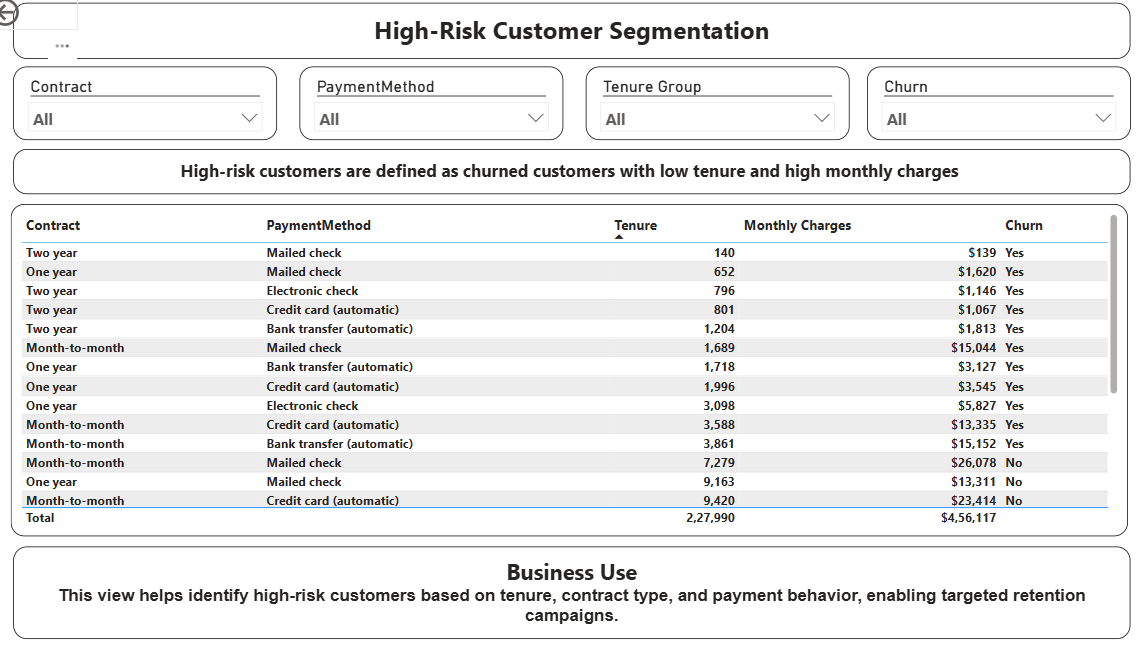

The dashboard page shown, as its layout file describes it:
{"tool":"powerbi","page":{"name":"High Risk Customer Table","canvas":[1280,720],"ordinal":3},"visuals":[{"type":"textbox","box":[28.8,9.6,1226.8,61.7],"z":0},{"type":"slicer","fields":{"Values":["cleaned_churn.Tenure Group"]},"box":[657.3,79.6,289.5,81],"z":1000},{"type":"slicer","fields":{"Values":["cleaned_churn.PaymentMethod"]},"box":[343.1,79.6,289.5,81],"z":2000},{"type":"slicer","fields":{"Values":["cleaned_churn.Contract"]},"box":[28.8,79.6,289.5,81],"z":3000},{"type":"actionButton","box":[0,0,100,40],"z":4000},{"type":"slicer","fields":{"Values":["cleaned_churn.Churn"]},"box":[966,79.6,289.5,81],"z":5000},{"type":"textbox","box":[28.8,606.5,1226.8,101.5],"z":6000},{"type":"tableEx","fields":{"Values":["cleaned_churn.Contract","cleaned_churn.PaymentMethod","Sum(cleaned_churn.tenure)","Sum(cleaned_churn.MonthlyCharges)","cleaned_churn.Churn"]},"box":[26.1,230.5,1226.8,365],"z":7000},{"type":"textbox","box":[28.8,170.2,1226.8,49.4],"z":8000}]}

Visuals, with their boxes in screenshot pixels (x1, y1, x2, y2), scaled from the page's 1280x720 canvas onto the 1140x645 screenshot:
textbox: crop(26, 9, 1118, 64)
slicer - cleaned_churn.Tenure Group: crop(585, 71, 843, 144)
slicer - cleaned_churn.PaymentMethod: crop(306, 71, 563, 144)
slicer - cleaned_churn.Contract: crop(26, 71, 283, 144)
actionButton: crop(0, 0, 89, 36)
slicer - cleaned_churn.Churn: crop(860, 71, 1118, 144)
textbox: crop(26, 543, 1118, 634)
tableEx - cleaned_churn.Contract x cleaned_churn.PaymentMethod: crop(23, 206, 1116, 533)
textbox: crop(26, 152, 1118, 197)
